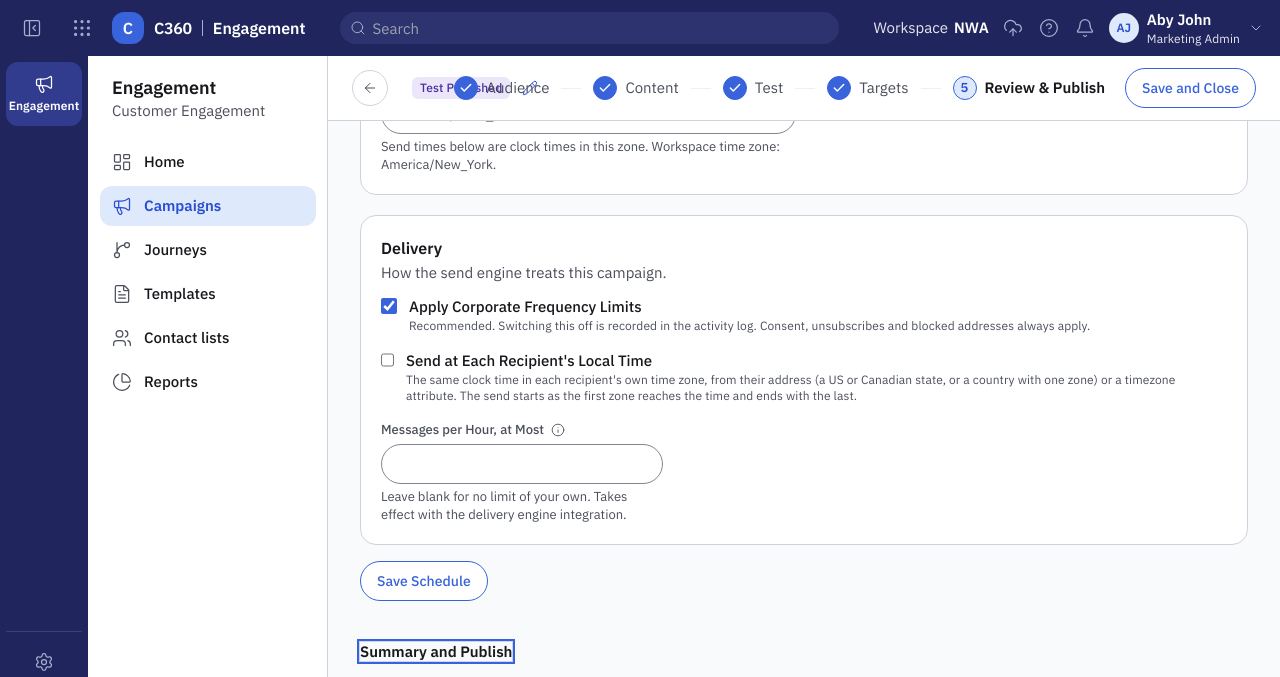
it: publishing with an unsaved schedule stores it first
(page scrolled)
What coordinates should you click on to do the following:
click the checkbox labelled "Send at Each Recipient's Local Time"
I would click on:
 (388, 360)
Its box is [381,352,394,368].
(page scrolled)
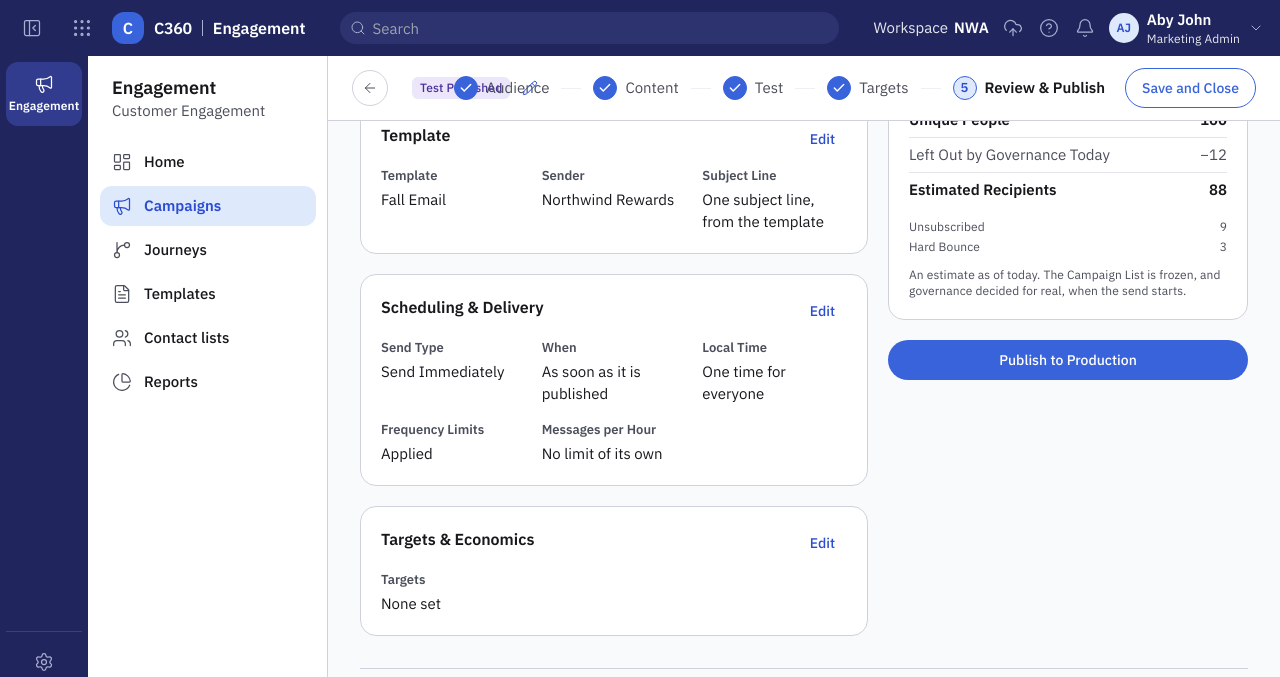
What coordinates should you click on to do the following:
click the button "Publish to Production"
I would click on:
 (1068, 360)
Its box is [888,340,1248,380].
(page scrolled)
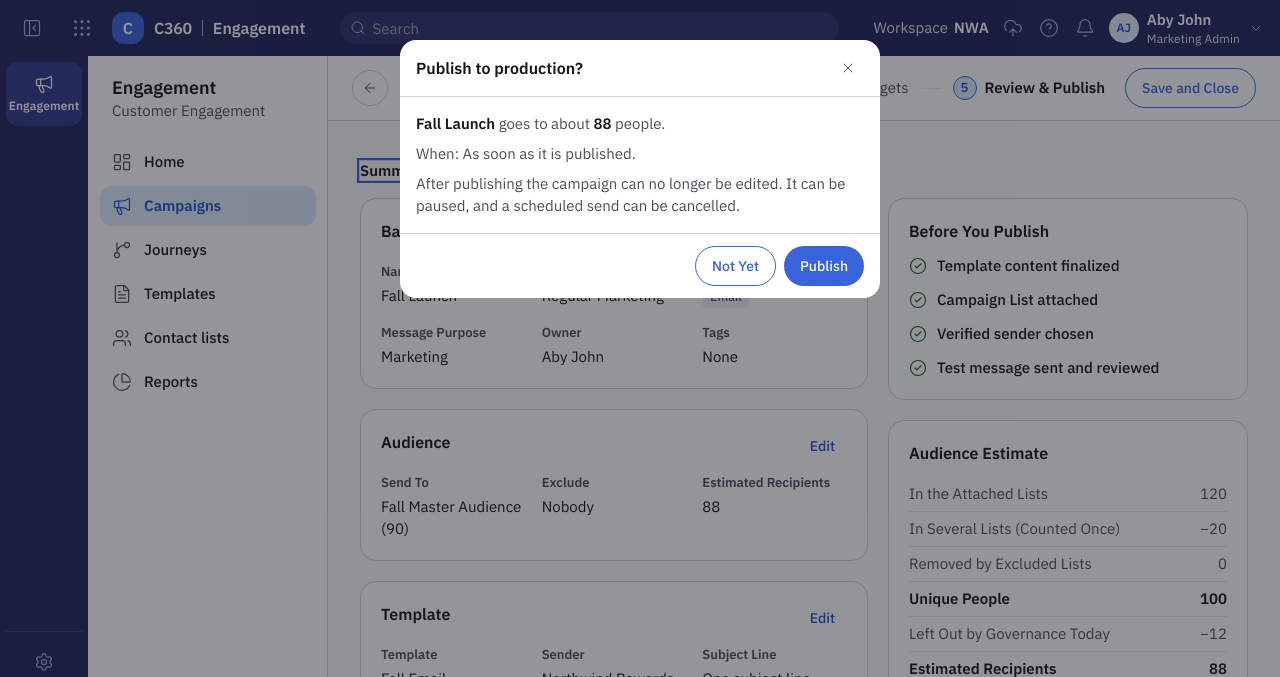
Expected: the dialog "Publish to production?" is shown, [400,40,880,298]
